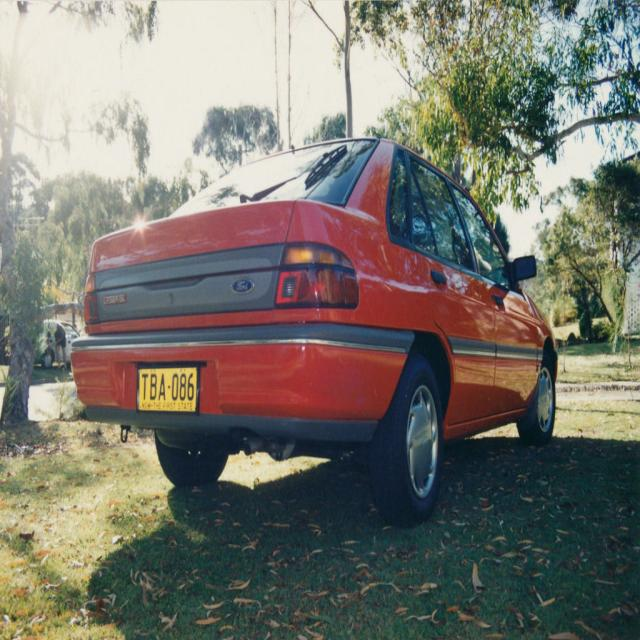car: (69, 128, 558, 531)
